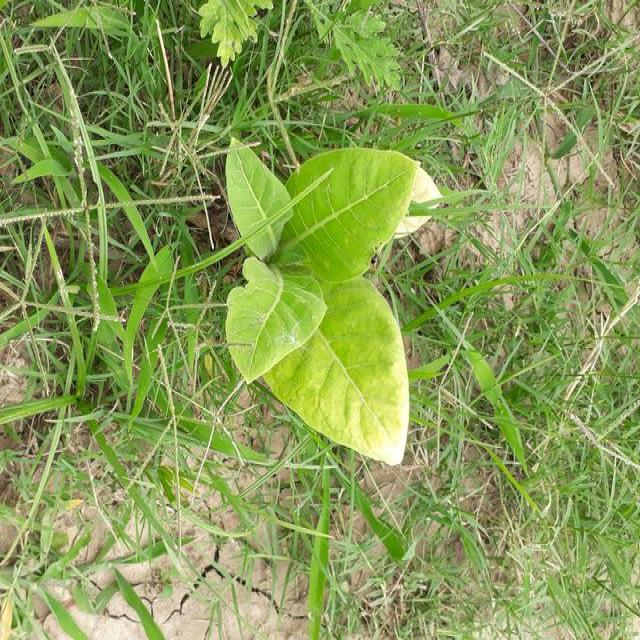crop: (224, 139, 412, 471)
